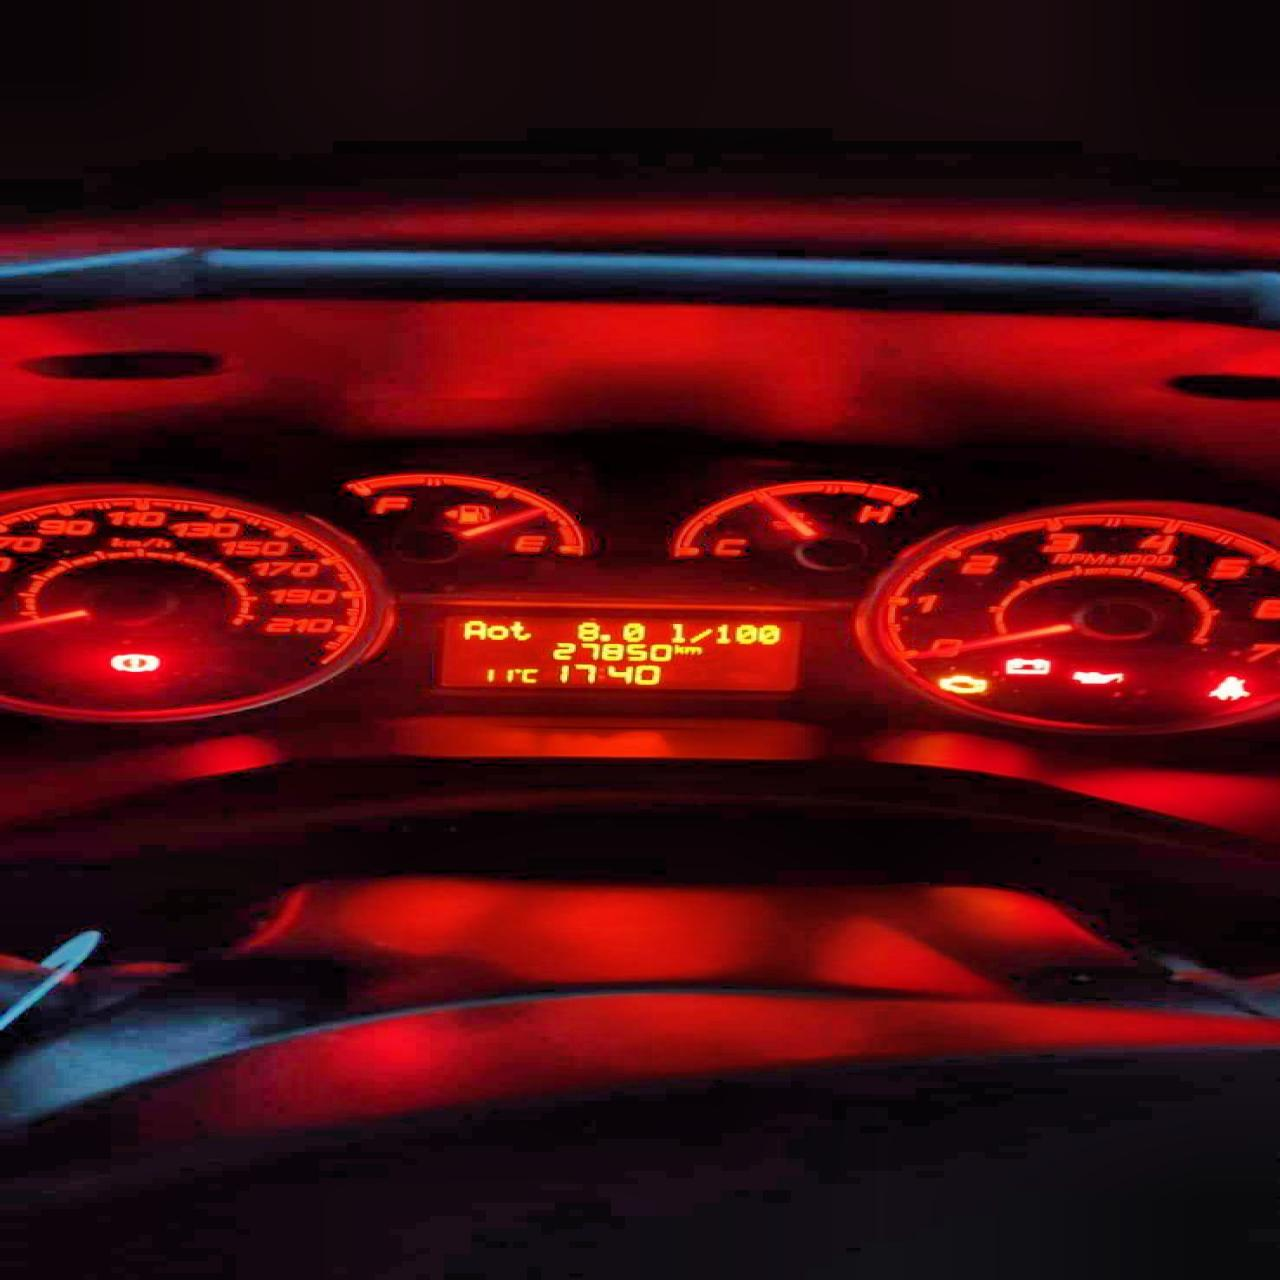-: (599, 633, 611, 642)
0: (618, 621, 646, 642), (633, 663, 659, 686), (731, 624, 756, 645), (647, 642, 673, 662), (756, 624, 778, 645)
1: (712, 621, 731, 645), (554, 662, 567, 683), (497, 667, 511, 682), (481, 667, 495, 682)
2: (551, 641, 576, 660)
4: (605, 663, 633, 685)
5: (622, 642, 645, 661)
7: (571, 662, 599, 683), (576, 642, 598, 660)
8: (573, 619, 598, 641), (600, 642, 621, 661)
X: (458, 618, 486, 640), (665, 620, 687, 644), (509, 619, 531, 641), (484, 624, 509, 640), (689, 628, 712, 644), (520, 666, 539, 683), (683, 645, 702, 654), (673, 644, 683, 654)
odometer: (436, 611, 806, 693)
